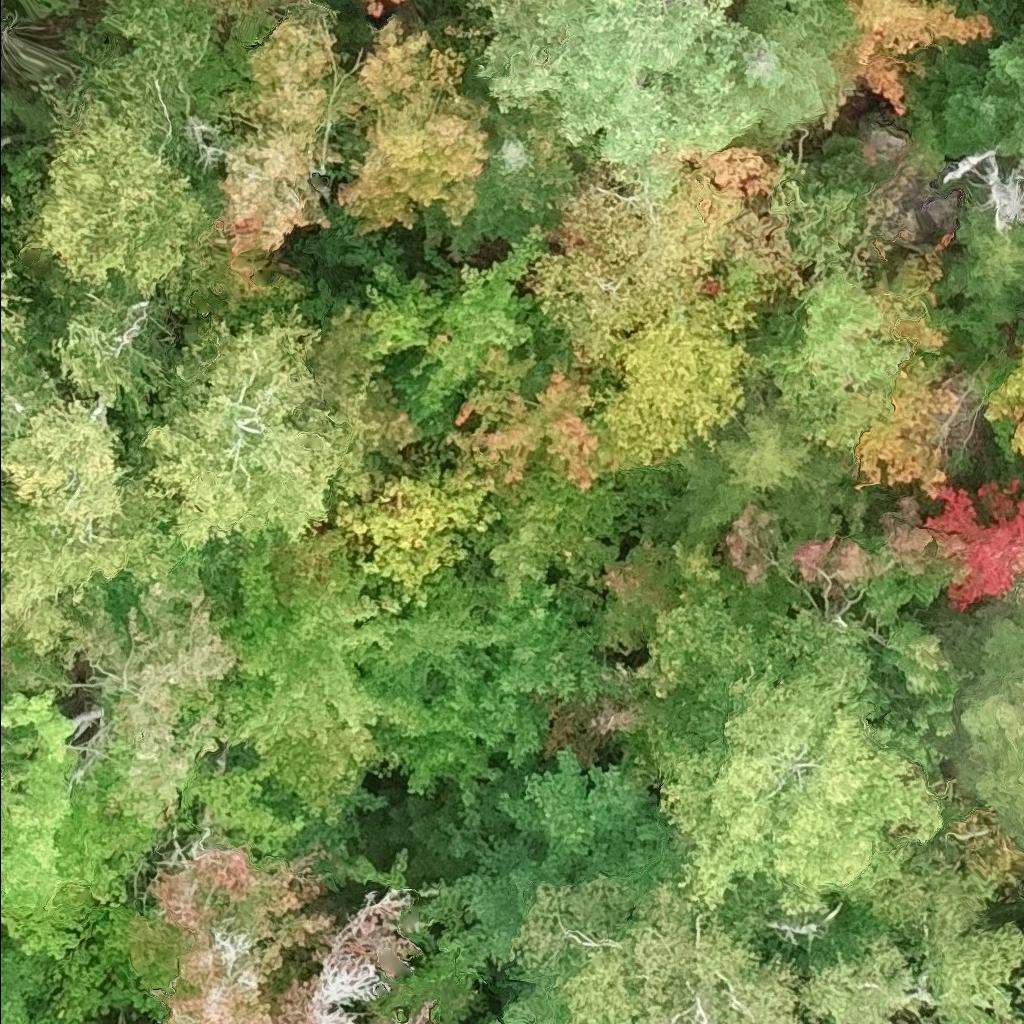crown: (0, 517, 401, 1010), (637, 576, 962, 935), (736, 479, 1023, 746), (525, 131, 800, 361), (9, 5, 220, 303), (151, 817, 445, 1023), (474, 0, 760, 196), (140, 304, 358, 545), (502, 877, 817, 1023), (204, 0, 347, 297), (0, 464, 199, 666), (804, 849, 1023, 1023), (315, 27, 493, 239), (584, 265, 767, 471), (454, 111, 576, 255), (0, 399, 123, 539), (42, 288, 173, 417), (963, 605, 1023, 845), (0, 254, 67, 468), (912, 47, 1016, 159), (732, 26, 837, 132), (736, 0, 859, 54), (982, 25, 1023, 157), (982, 339, 1023, 445), (500, 992, 554, 1023), (0, 644, 10, 677), (0, 193, 12, 215), (968, 0, 988, 4)
